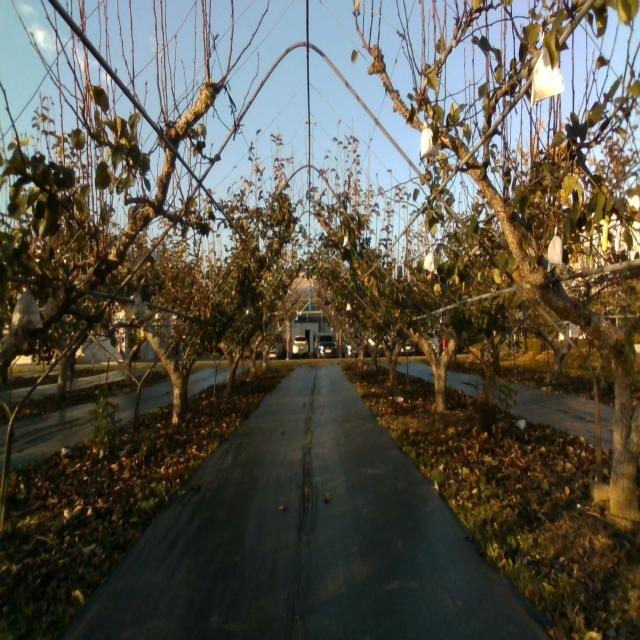pearbags: (530, 44, 565, 108), (11, 291, 43, 336), (420, 121, 440, 159), (548, 226, 563, 274), (133, 295, 148, 322), (423, 252, 438, 276)
